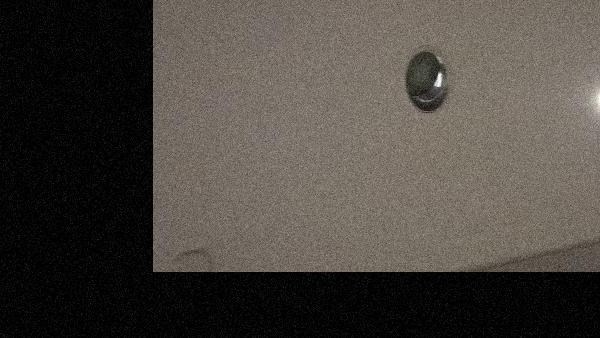light_off: (391, 27, 455, 118)
